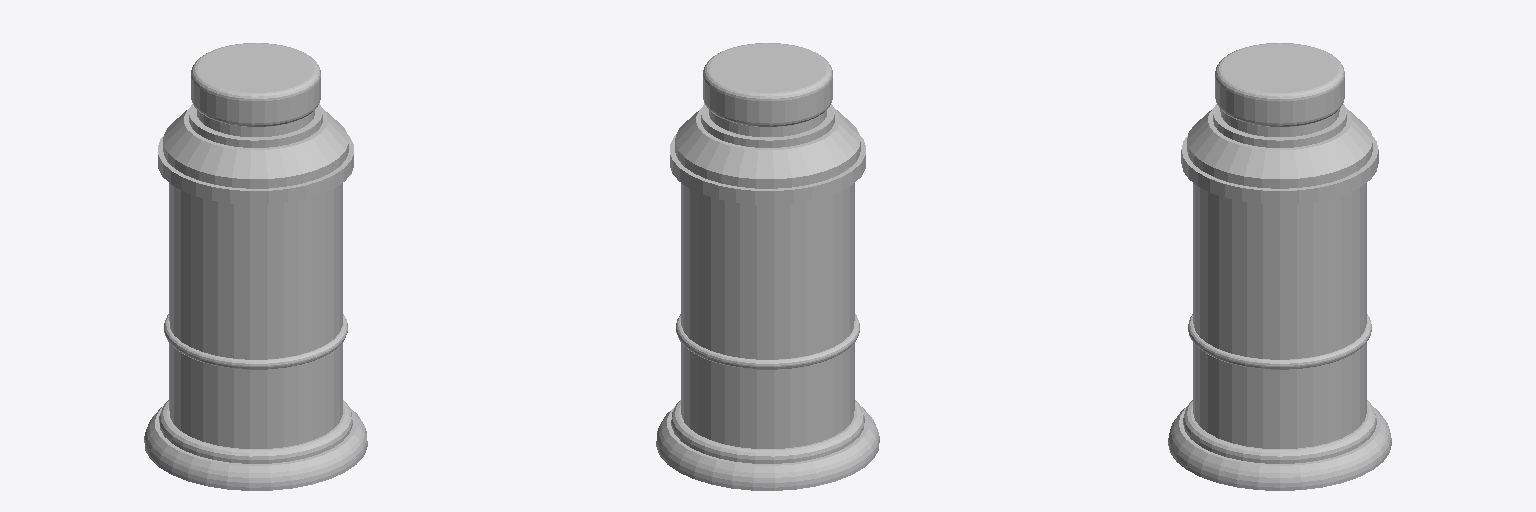
File: SetA_Container_Style_12.obj
The picture shows the model from 3 angles: view 1: azimuth 30°, elevation 25°; view 2: azimuth 150°, elevation 25°; view 3: azimuth 270°, elevation 25°; orthographic projection.
Parts seen in each view (by area): view 1: SetA_Container_Style_12; view 2: SetA_Container_Style_12; view 3: SetA_Container_Style_12.
Boxes of the visible parts, x1,y1,x2,y2 form: SetA_Container_Style_12: [144, 43, 367, 490]; SetA_Container_Style_12: [656, 43, 879, 490]; SetA_Container_Style_12: [1168, 43, 1391, 490].
Size of the model in its own units: 0.17 by 0.3146 by 0.17.